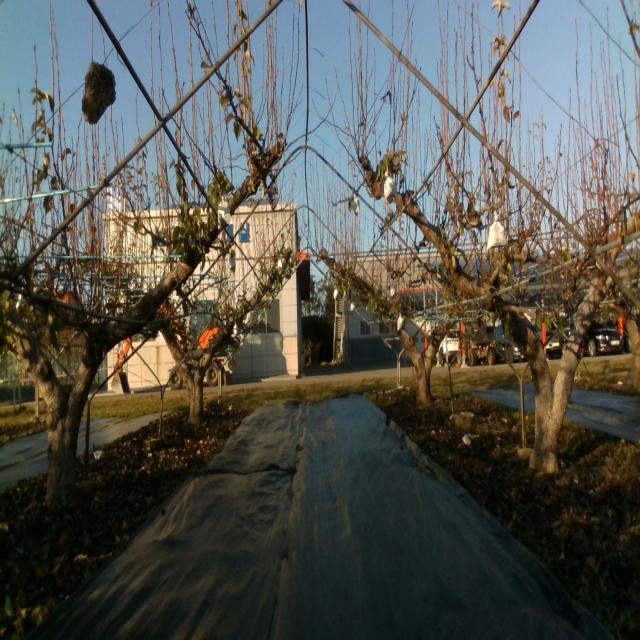pearbags: (218, 194, 234, 230), (383, 173, 398, 200)
